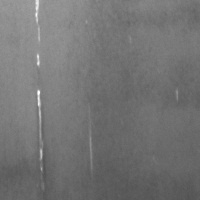scratches: (32, 87, 47, 177)
